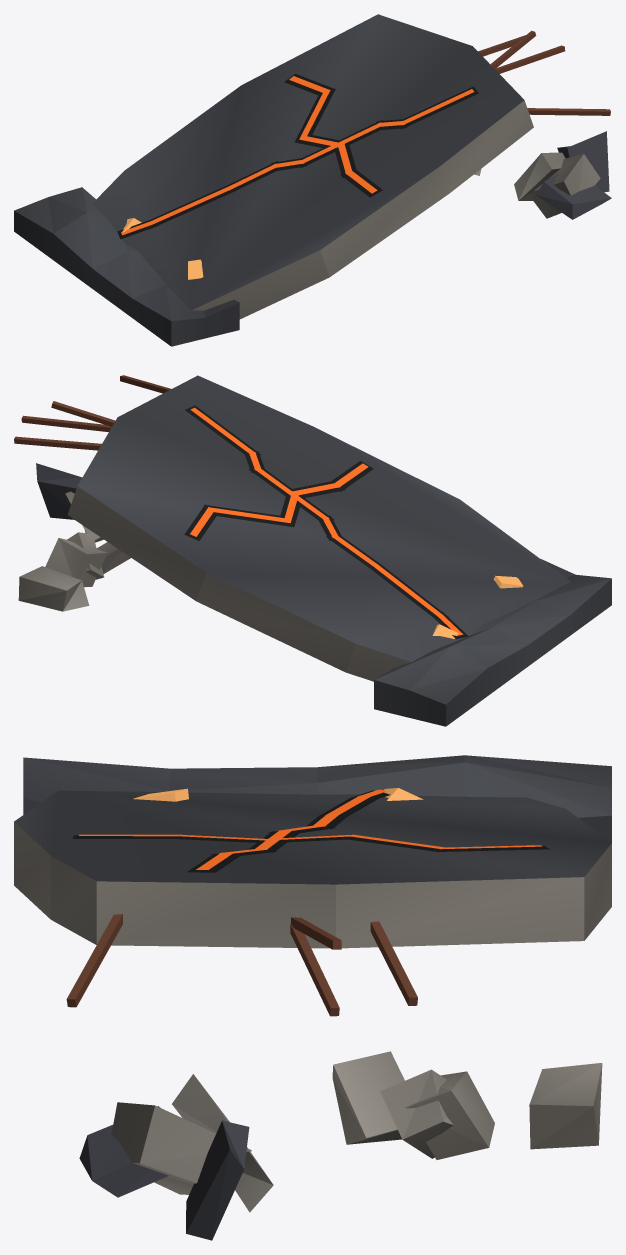
File: prop_road_chunk.meshopt.glb
3 views of the same model, one above another, from view 1: azimuth 30°, elevation 25°; view 2: azimuth 150°, elevation 25°; view 3: azimuth 270°, elevation 25° (orthographic). The views are drawn at different scales.
Visible parts, largest first — view 1: road_chunk; view 2: road_chunk; view 3: road_chunk.
Part boxes in pixels (bbox=[...]): road_chunk: bbox=[14, 14, 611, 346]; road_chunk: bbox=[14, 375, 611, 726]; road_chunk: bbox=[14, 755, 611, 1240].
Bounding box in the file's own units: 5.76 × 1.8 × 3.25.
